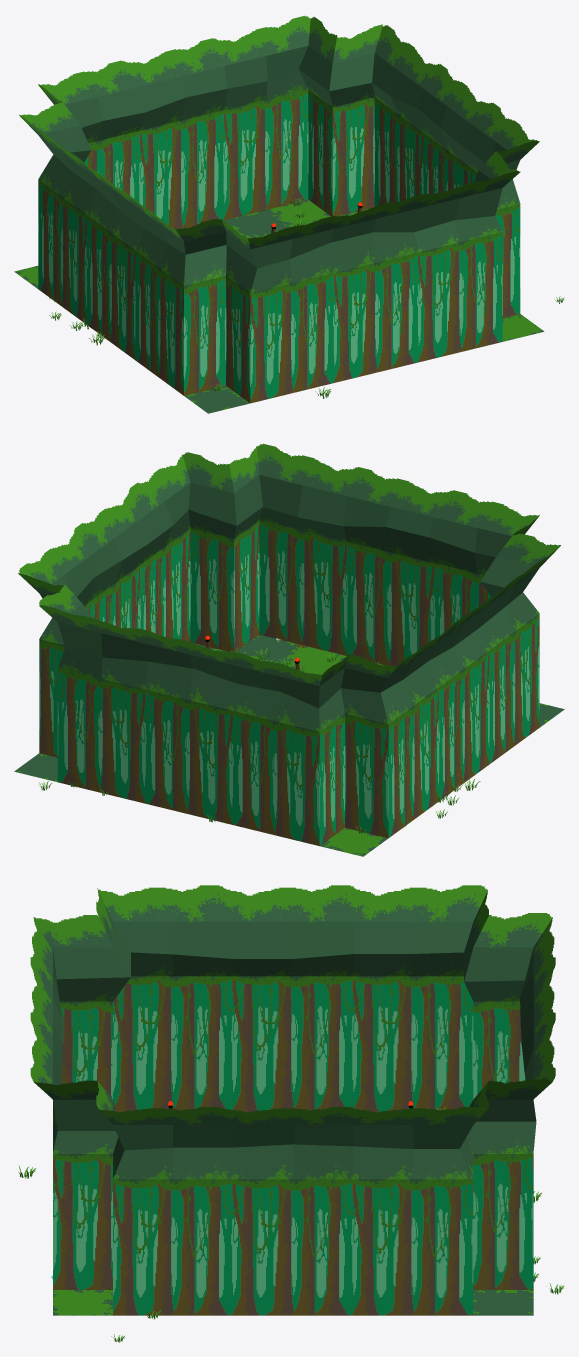
File: camp.glb
The picture shows the model from 3 angles, top to bottom: view 1: azimuth 30°, elevation 25°; view 2: azimuth 150°, elevation 25°; view 3: azimuth 270°, elevation 25°; orthographic projection. The views are drawn at different scales.
Visible parts, largest first — view 1: лагерь аборигенов (босс).001, лагерь аборигенов (босс), трава.002; view 2: лагерь аборигенов (босс).001, лагерь аборигенов (босс), трава.002; view 3: лагерь аборигенов (босс).001, лагерь аборигенов (босс).
Boxes of the visible parts, left/top/right/bottom form: лагерь аборигенов (босс).001: left=19, top=16, right=539, bottom=403; лагерь аборигенов (босс): left=14, top=199, right=544, bottom=413; трава.002: left=47, top=197, right=564, bottom=398; лагерь аборигенов (босс).001: left=18, top=443, right=560, bottom=845; лагерь аборигенов (босс): left=14, top=634, right=564, bottom=856; трава.002: left=38, top=643, right=480, bottom=833; лагерь аборигенов (босс).001: left=30, top=885, right=555, bottom=1315; лагерь аборигенов (босс): left=53, top=1290, right=533, bottom=1315.
Bounding box in the file's own units: 19.27 × 8.16 × 18.34.
Materials: 9 (3 with a texture image).
